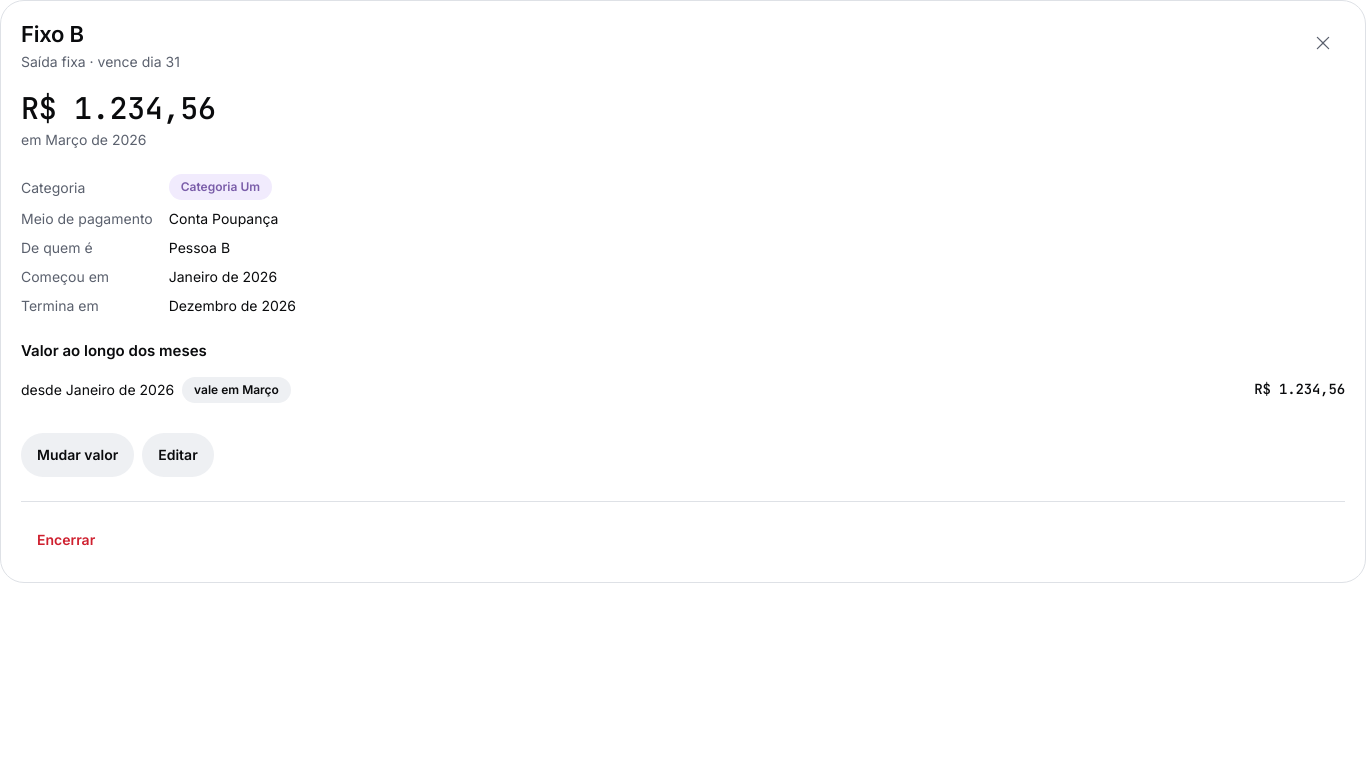
Test: mudar o valor e encerrar no painel (FIXCOL-05, ACs 1 a 3 e 6) › "Encerrar" abre o controle de encerramento, com o aviso
Click the button "Encerrar": (66, 540) [21, 518, 111, 562]
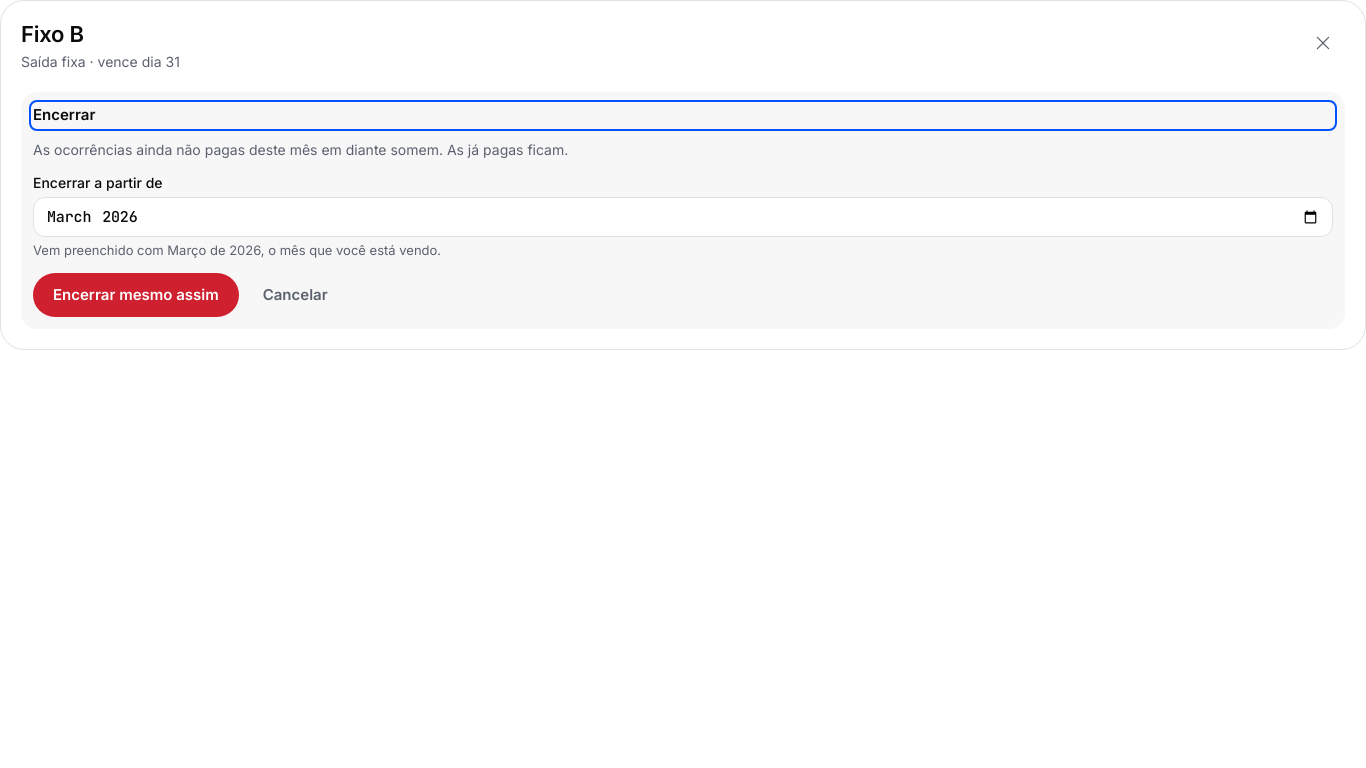
expect the element "Encerrar" is shown: met, box [21, 92, 1345, 329]
expect the text "ainda não pagas deste mês em diante somem" is shown: met, box [33, 141, 568, 158]
expect the field labelled "Encerrar a partir de" holds "2026-03": met, box [33, 197, 1333, 237]
